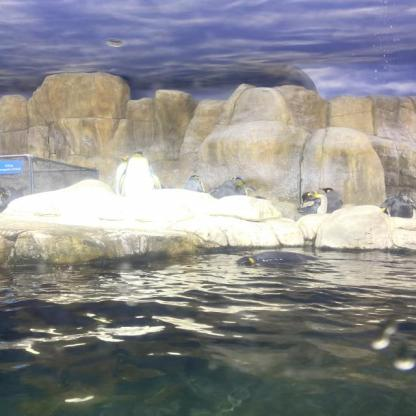penguin: (120, 151, 161, 198), (236, 250, 320, 266), (380, 194, 416, 221), (114, 154, 130, 196), (318, 187, 342, 215), (300, 192, 327, 214), (209, 179, 235, 200), (233, 174, 255, 197), (184, 176, 206, 193), (0, 185, 10, 213), (18, 186, 28, 199), (9, 184, 18, 198)
